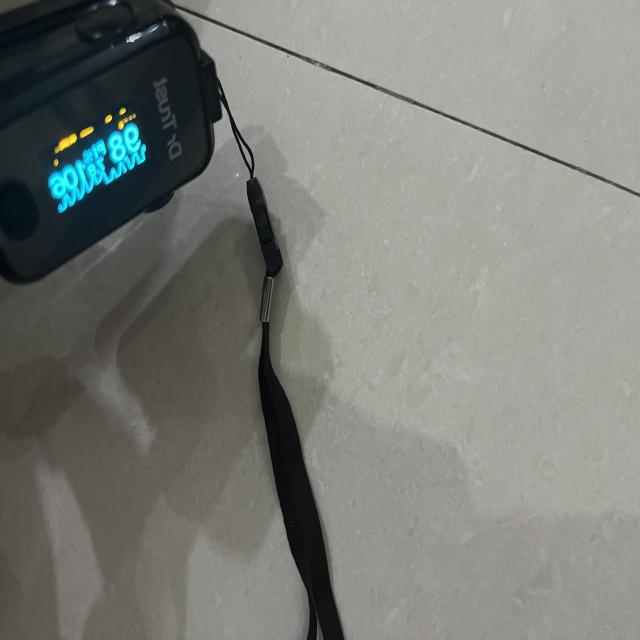spo2: (0, 0, 223, 287)
